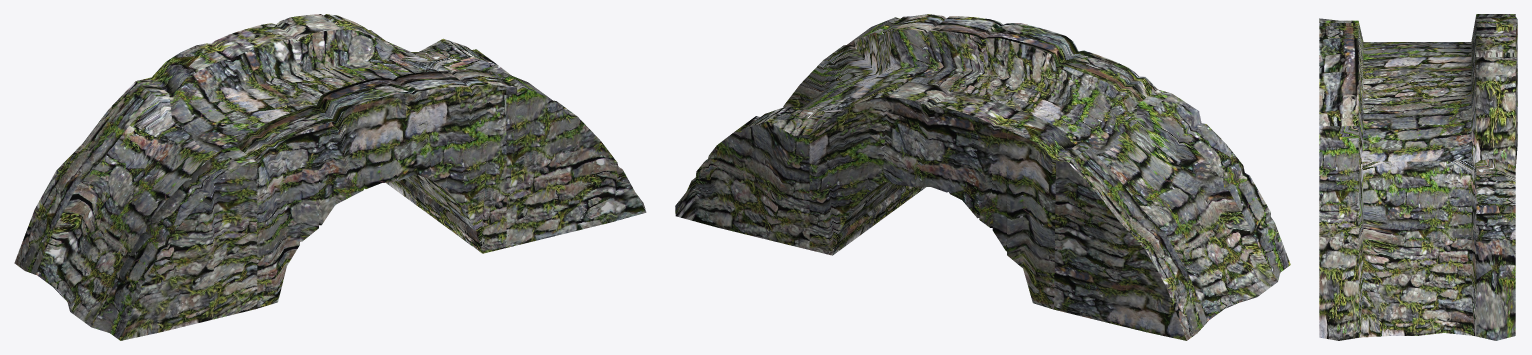
The model's file is bridge2.fbx.
3 views of the same model, side by side, from view 1: azimuth 30°, elevation 25°; view 2: azimuth 150°, elevation 25°; view 3: azimuth 270°, elevation 25° (orthographic). The views are drawn at different scales.
Visible parts, largest first — view 1: bridge; view 2: bridge; view 3: bridge.
Part boxes in pixels (x1,y1,x2,y2): bridge: (14,14,646,340); bridge: (675,14,1290,340); bridge: (1319,14,1517,340).
Size of the model in its own units: 969 by 309 by 333.
1 material, 1 textured.
